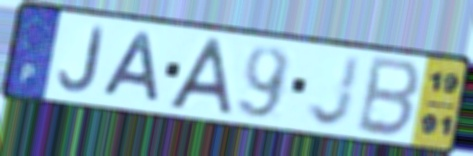9: (233, 43, 297, 119)
A: (164, 36, 235, 118), (100, 30, 163, 105)
B: (353, 53, 425, 141)
J: (305, 52, 364, 129), (56, 24, 106, 95)
